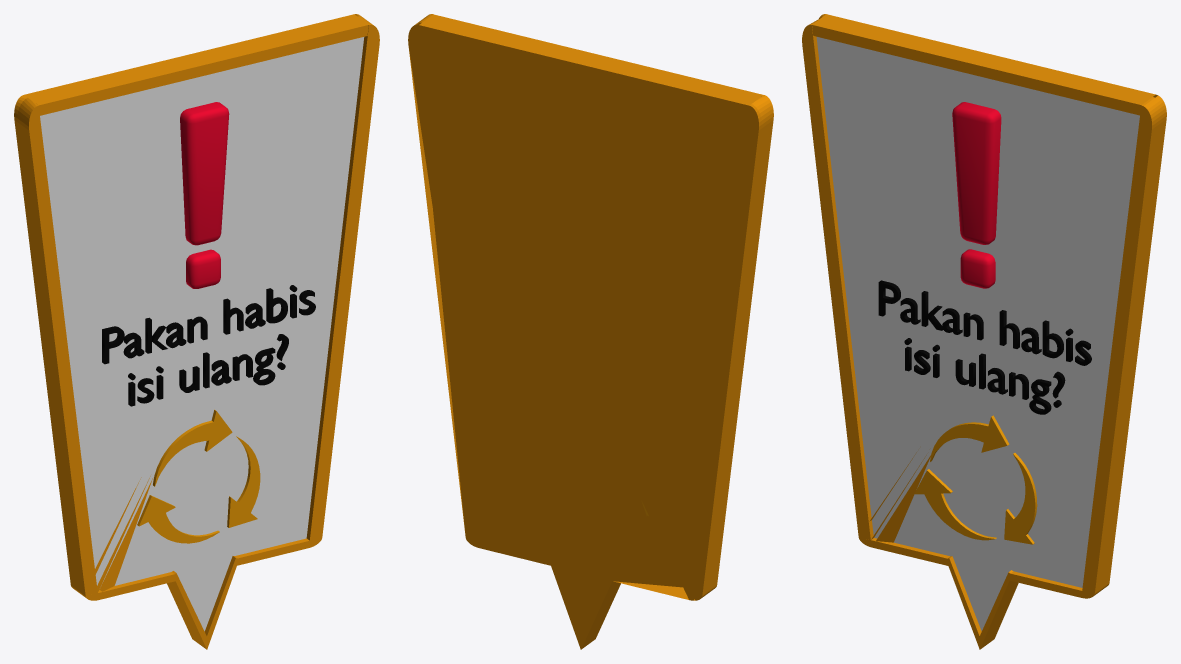
File: caution.fbx
3 views of the same model, side by side, from view 1: azimuth 30°, elevation 25°; view 2: azimuth 150°, elevation 25°; view 3: azimuth 330°, elevation 25° (orthographic).
Visible parts, largest first — view 1: Plane, Cube.001, Text, Curve.002; view 2: Plane; view 3: Plane, Cube.001, Text, Curve.002.
Boxes of the visible parts, left/top/right/bottom form: Plane: left=14, top=14, right=379, bottom=649; Cube.001: left=180, top=102, right=229, bottom=288; Text: left=102, top=285, right=315, bottom=406; Curve.002: left=137, top=409, right=260, bottom=543; Plane: left=408, top=14, right=773, bottom=649; Plane: left=802, top=14, right=1166, bottom=649; Cube.001: left=952, top=102, right=1001, bottom=288; Text: left=878, top=280, right=1091, bottom=414; Curve.002: left=914, top=415, right=1037, bottom=544.
Size of the model in its own units: 197 by 315 by 20.35.
